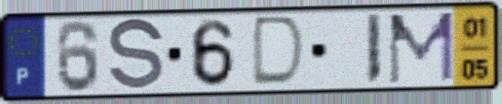6: (187, 17, 239, 90), (53, 18, 101, 96)
D: (248, 13, 309, 89)
I: (363, 12, 384, 87)
M: (385, 9, 457, 87)
S: (106, 15, 168, 95)
